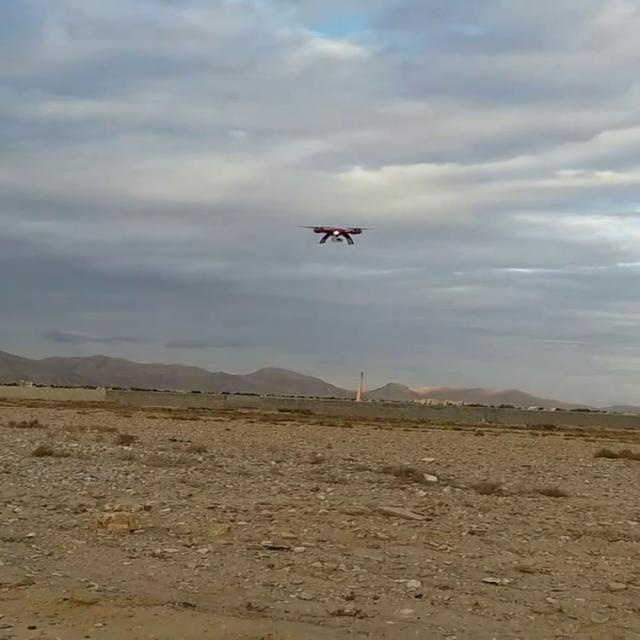drone: (300, 220, 374, 248)
